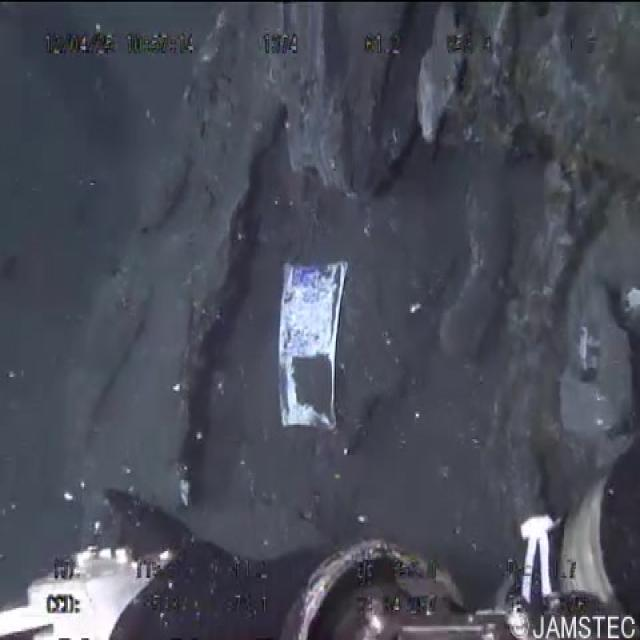plastic: (272, 255, 353, 438)
